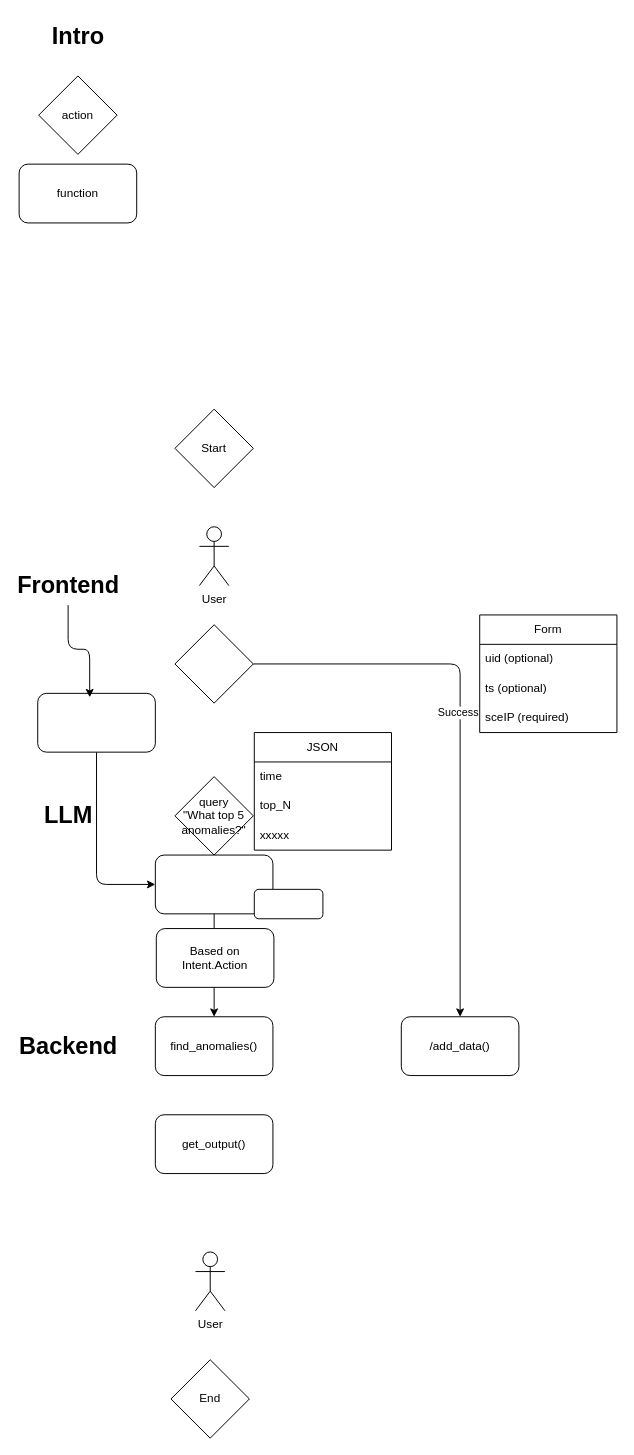
This 634x1455 diagram has some shape labels left out. The centre of each missing label's shape, as x and y in pixels:
call /intent: (96,722)
resolve_intent(): (213,884)
Upload data: (213,663)
validate intent (schema normalization: (288,903)
